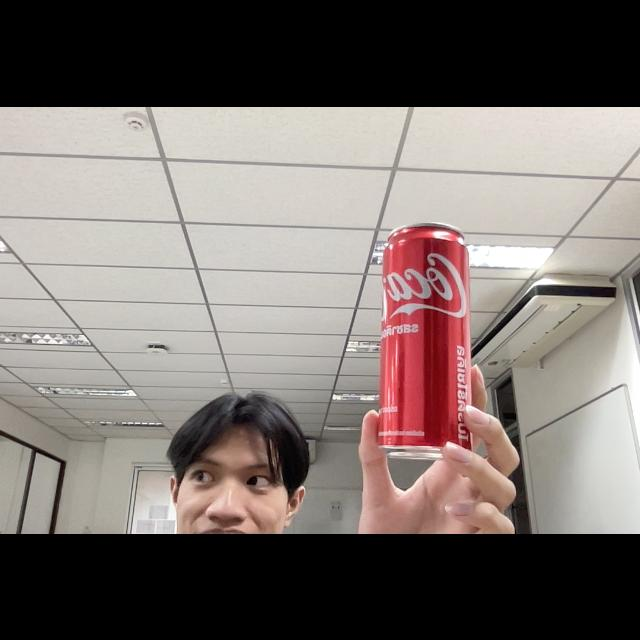plastic_bottle: (365, 214, 487, 466)
